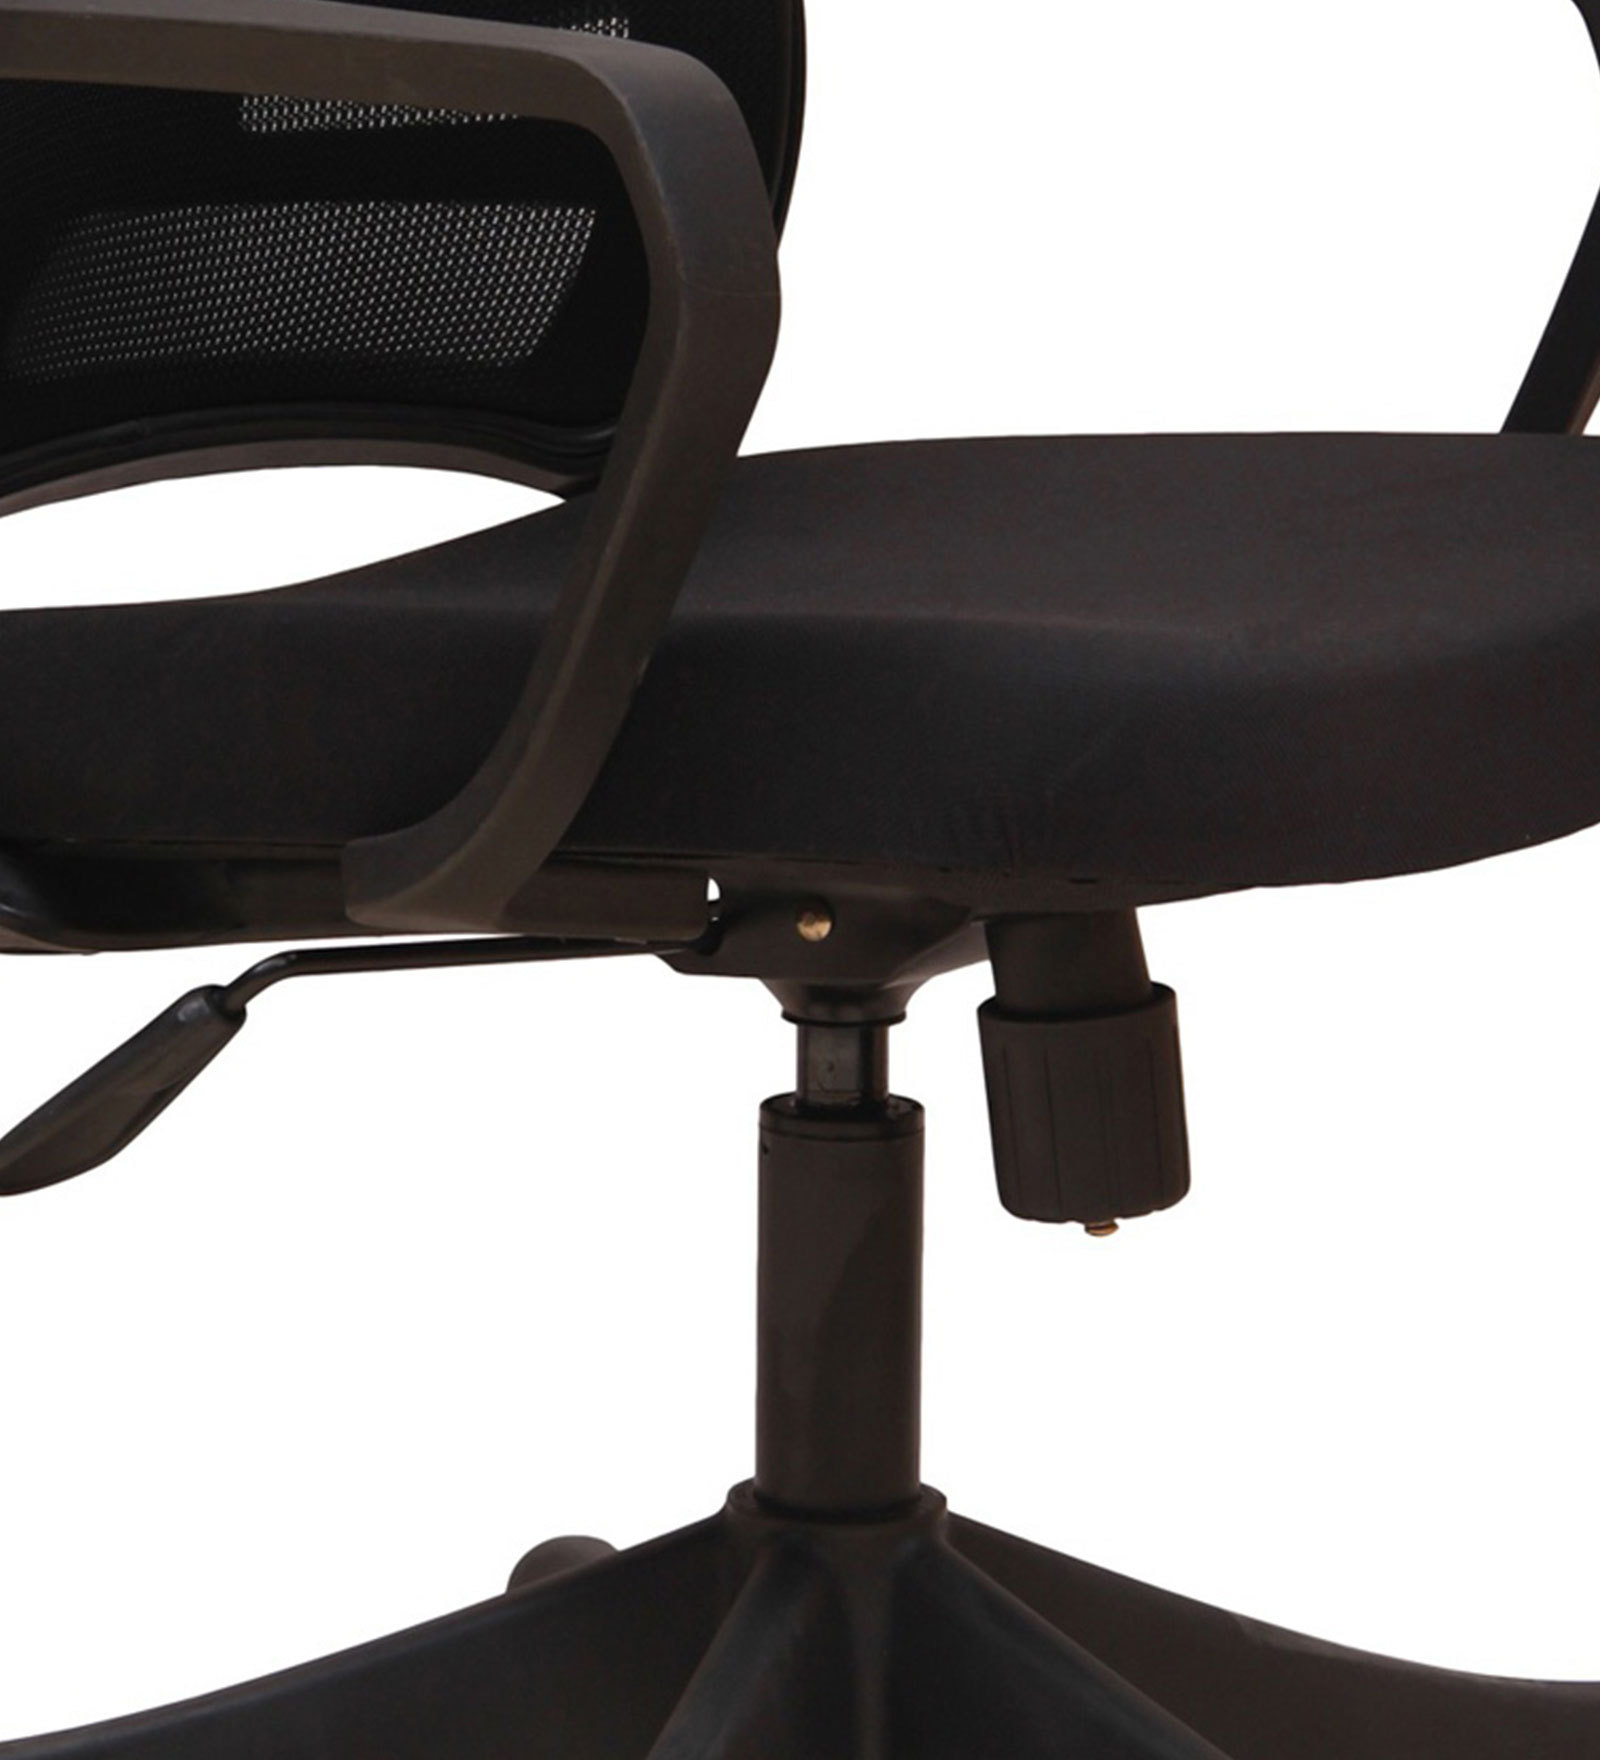Royal Mesh Ergonomic Chair in Black Colour by Adiko Systems: (11, 15, 1600, 1732)
